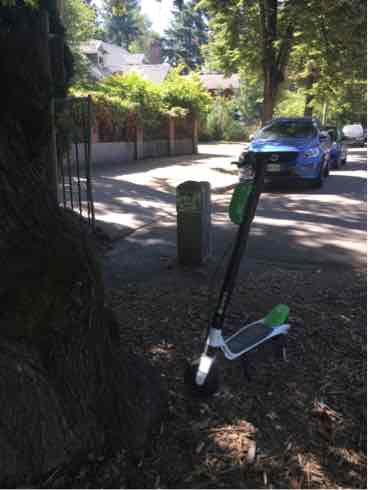scooter: (193, 146, 310, 398)
